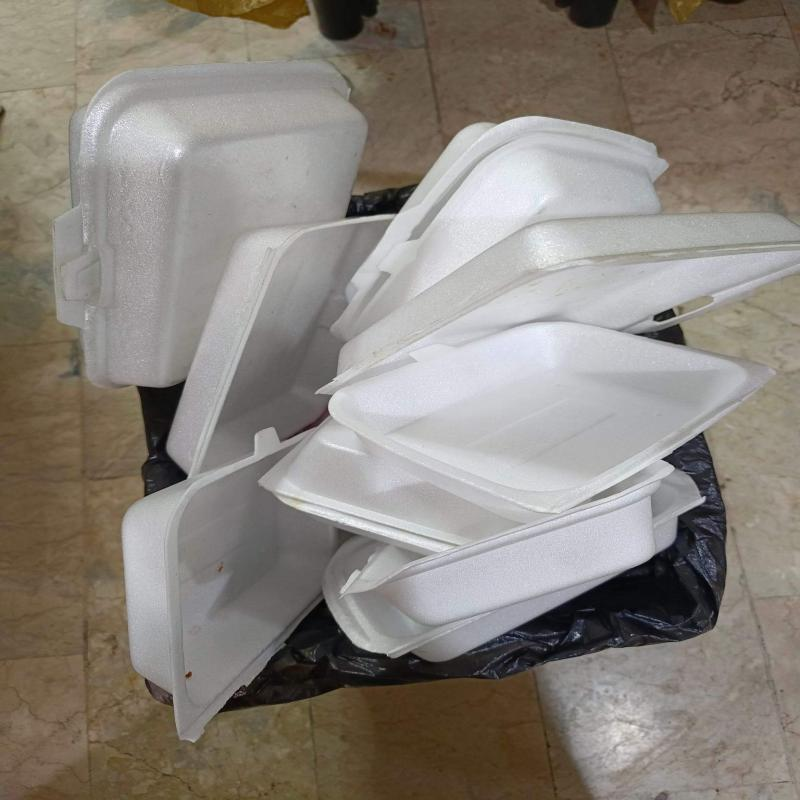styrofoam containers: (52, 60, 368, 391), (327, 320, 777, 524), (313, 212, 800, 392), (332, 116, 669, 342), (121, 428, 344, 743), (166, 214, 395, 477), (340, 462, 674, 626), (321, 536, 622, 663), (258, 419, 522, 555), (652, 470, 705, 553)
